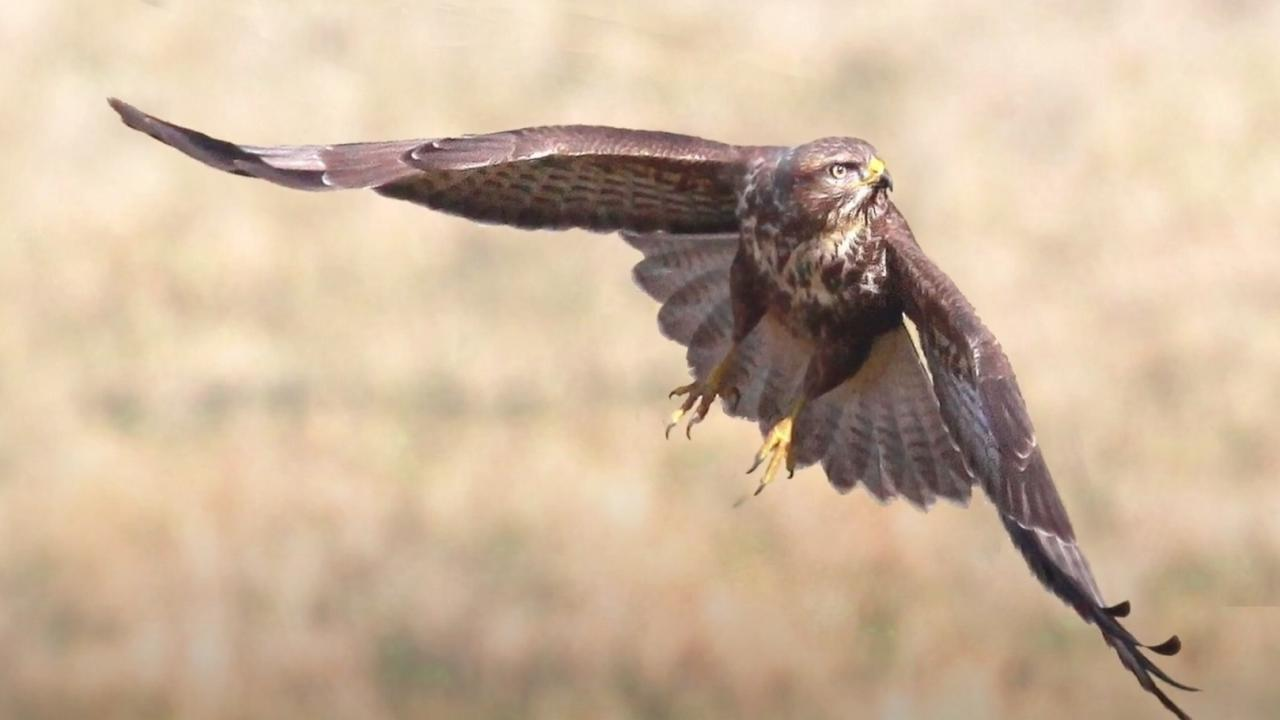Bird: (98, 86, 1209, 720)
